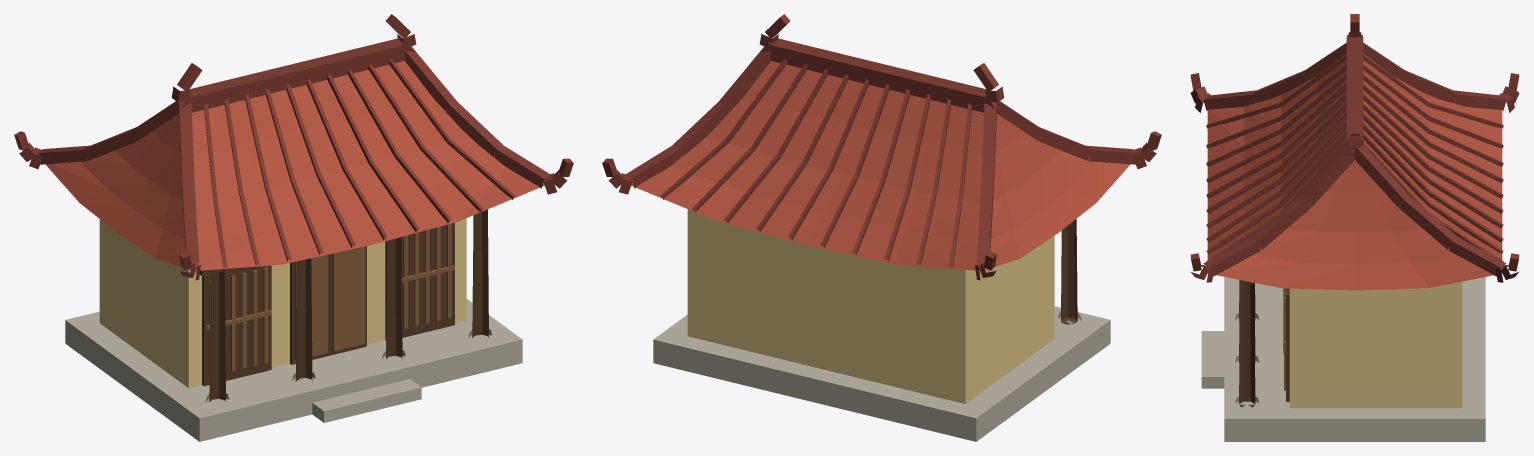
File: viet_house_tiled.glb
3 renders of one model, left to right at view 1: azimuth 30°, elevation 25°; view 2: azimuth 150°, elevation 25°; view 3: azimuth 270°, elevation 25°, orthographic. The views are drawn at different scales.
Visible parts, largest first — view 1: viet_house_tiled; view 2: viet_house_tiled; view 3: viet_house_tiled.
Part boxes in pixels (x1,y1,x2,y2): viet_house_tiled: (14,14,573,441); viet_house_tiled: (602,14,1161,441); viet_house_tiled: (1190,14,1519,441).
Bounding box in the file's own units: 1 × 0.7659 × 0.7511.
